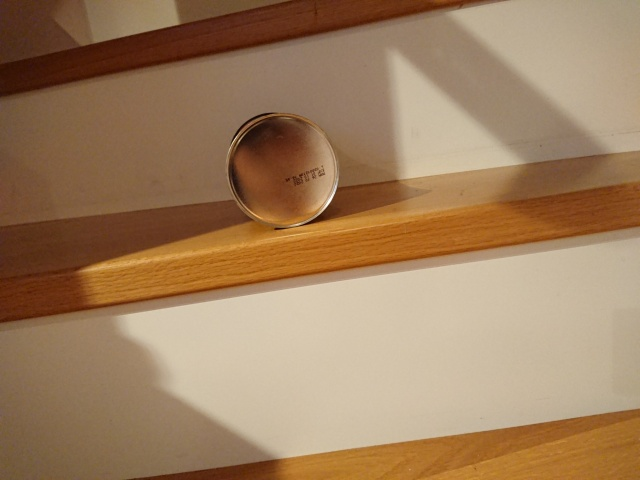Nescafe Classic 225g: (223, 109, 344, 232)
